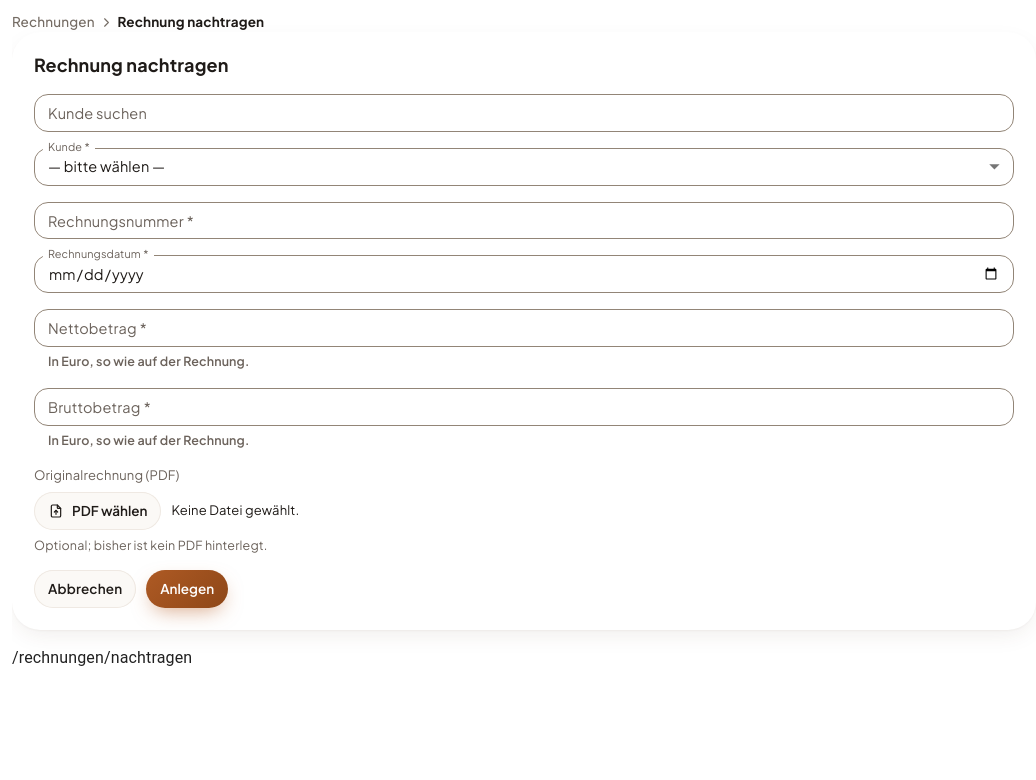
Test: NachtragMaske — Fehler › meldet einen Ausfall beim Speichern ohne Feldfehler als allgemeine Meldung
Select "Adler AG" in the dropdown labelled "Kunde": (524, 167) [34, 148, 1014, 186]
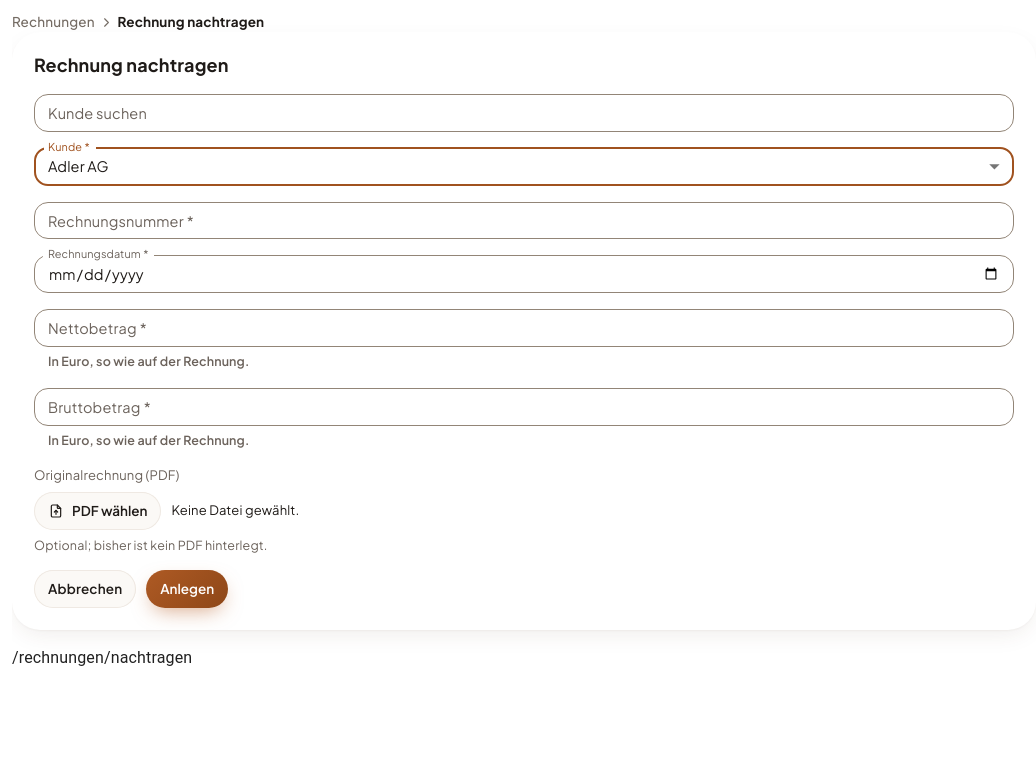
In the field labelled "Rechnungsnummer": (524, 220) [34, 202, 1014, 239], type "RE-2026-014"
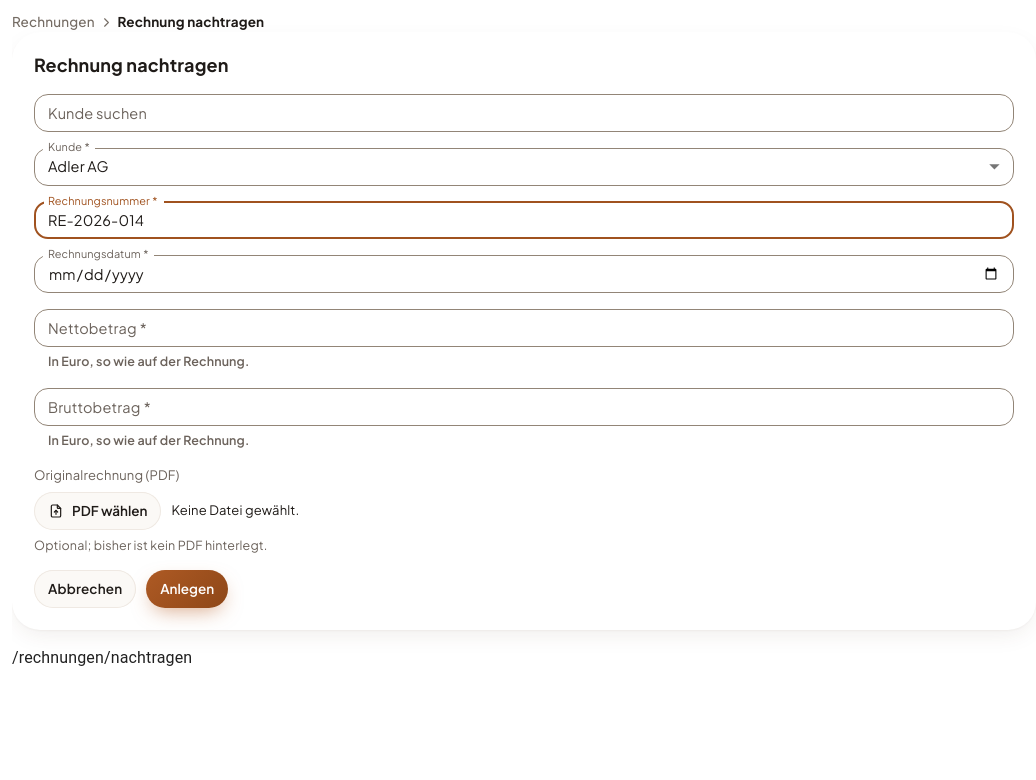
In the date field labelled "Rechnungsdatum *": (524, 274) [34, 255, 1014, 293], type "2026-03-12"
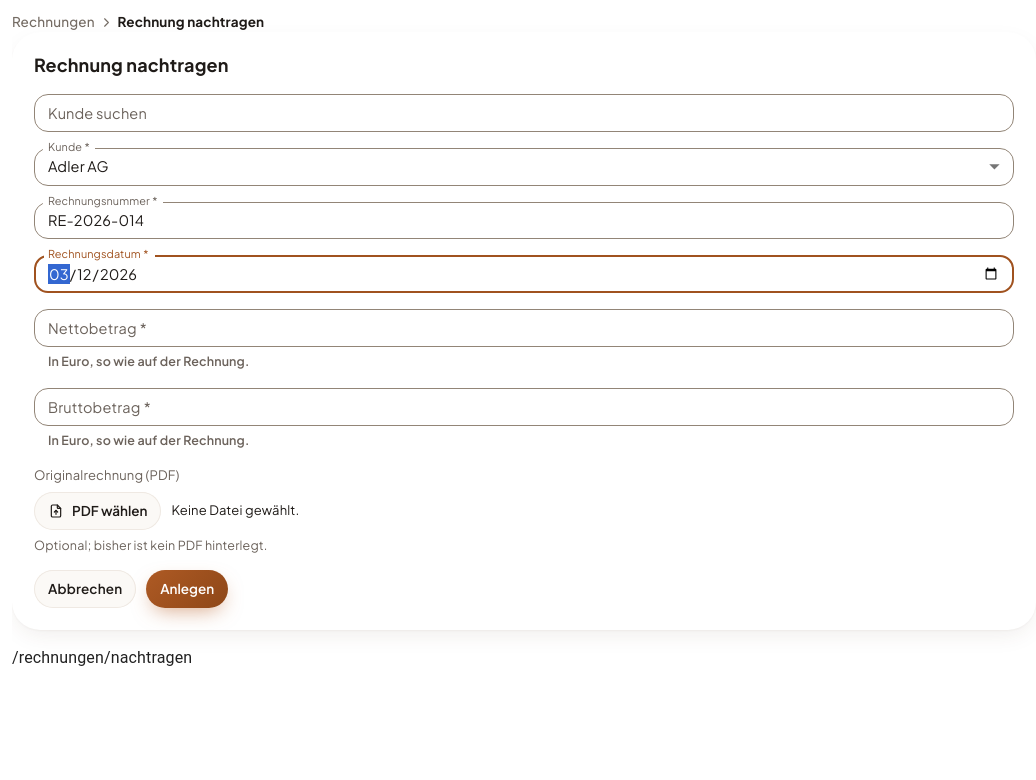
In the field labelled "Nettobetrag": (524, 328) [34, 309, 1014, 347], type "1000,5"
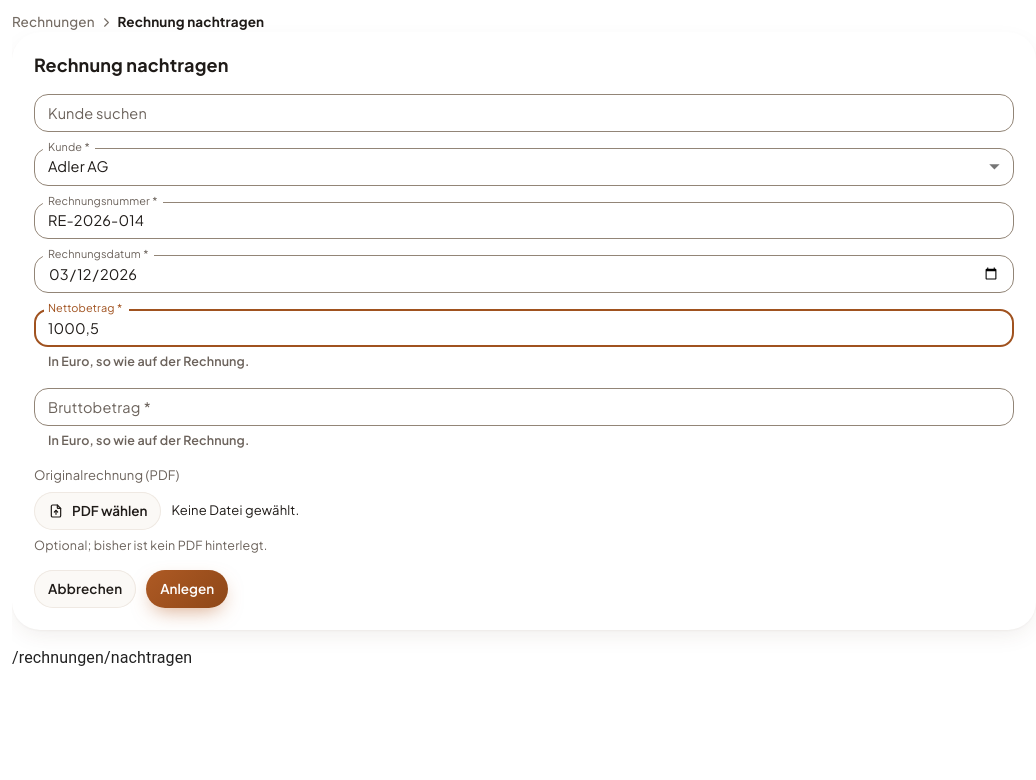
In the field labelled "Bruttobetrag": (524, 407) [34, 388, 1014, 426], type "1190,60"
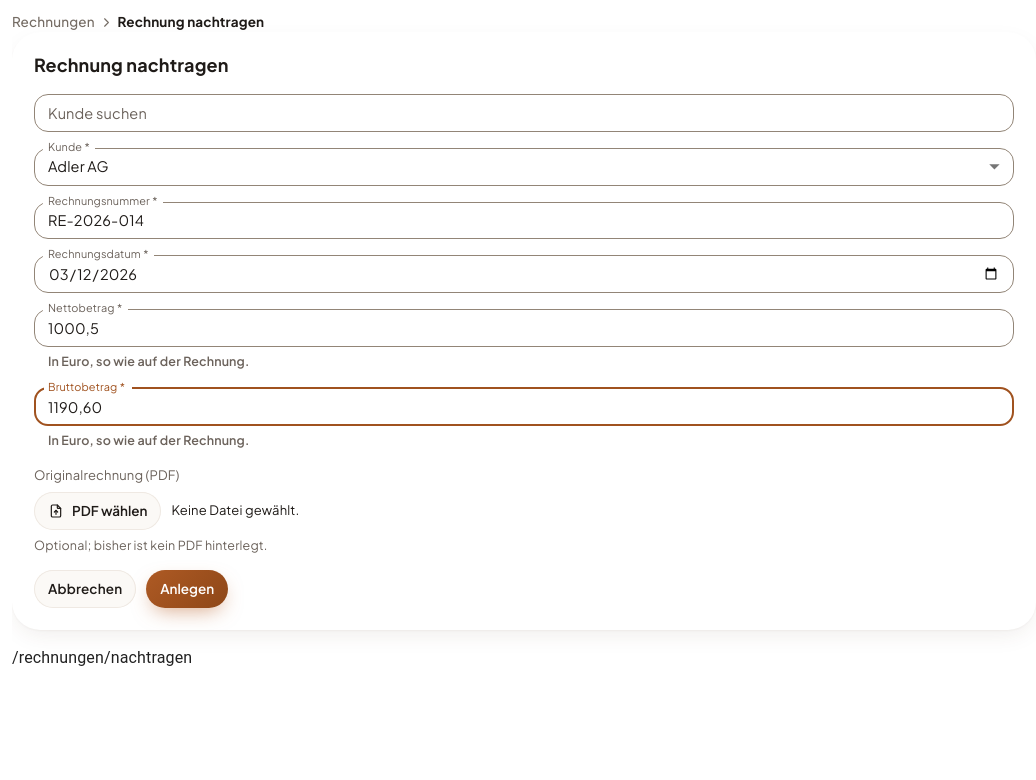
Click the button "Anlegen": (187, 589) [146, 570, 228, 608]
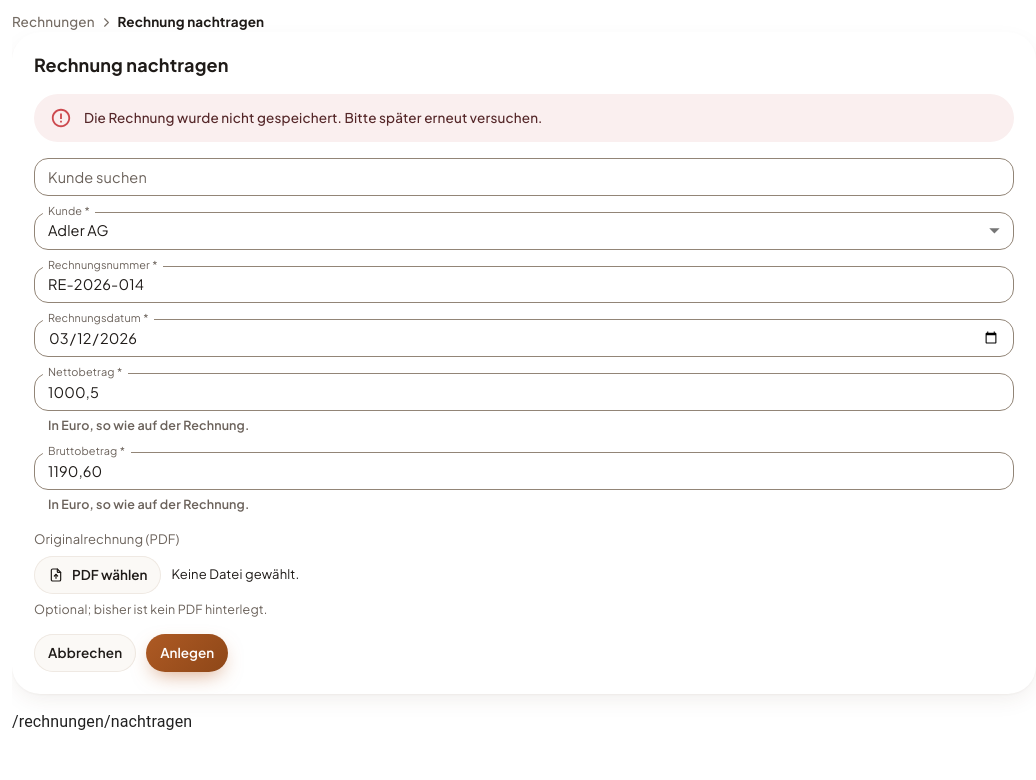
Expected: the button "Anlegen" is enabled, [146, 634, 228, 672]
Now the message reads "Die Rechnung wurde nicht gespeichert. Bitte später erneut versuchen.", box [84, 109, 542, 126]
